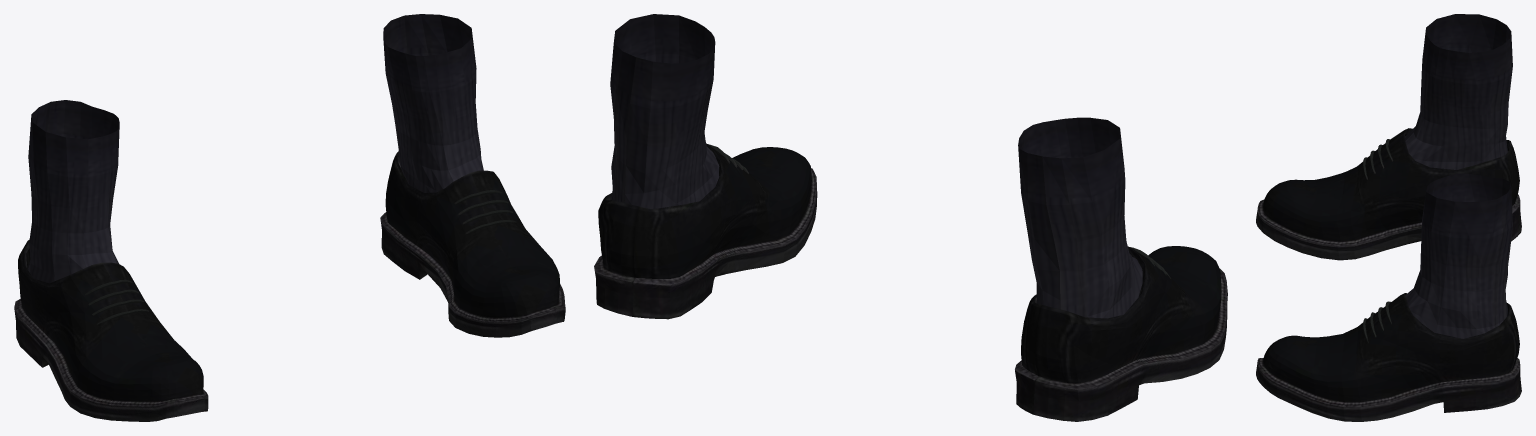
File: mhw_shoes03.glb
3 renders of one model, left to right at view 1: azimuth 30°, elevation 25°; view 2: azimuth 150°, elevation 25°; view 3: azimuth 270°, elevation 25°, orthographic. The views are drawn at different scales.
Visible parts, largest first — view 1: mhw_shoes03; view 2: mhw_shoes03; view 3: mhw_shoes03.
Boxes of the visible parts, box(x1,y1,x2,y2) form: mhw_shoes03: box(14, 14, 565, 421); mhw_shoes03: box(594, 14, 1227, 421); mhw_shoes03: box(1256, 14, 1521, 421).
Bounding box in the file's own units: 0.5465 × 0.2542 × 0.2901.
1 material, 1 textured.
